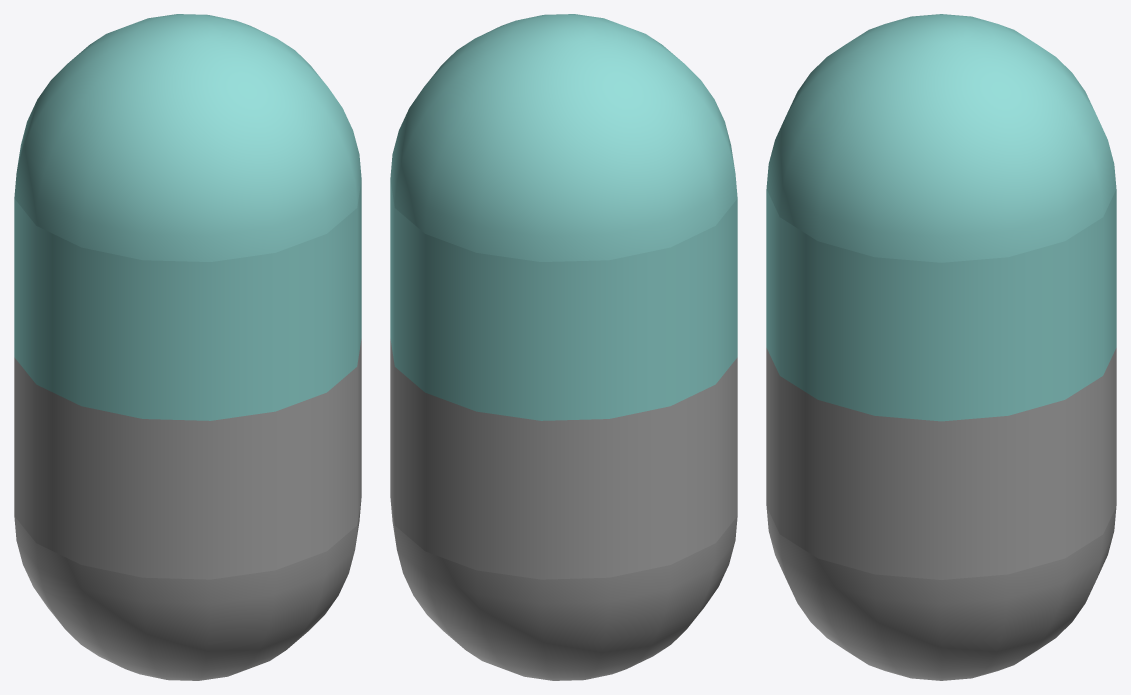
The model's file is CapsulePill.fbx.
3 renders of one model, left to right at view 1: azimuth 30°, elevation 25°; view 2: azimuth 150°, elevation 25°; view 3: azimuth 270°, elevation 25°, orthographic.
Visible parts, largest first — view 1: pCylinder2; view 2: pCylinder2; view 3: pCylinder2.
Part boxes in pixels (bbox=[...]): pCylinder2: bbox=[14, 14, 361, 680]; pCylinder2: bbox=[390, 14, 737, 680]; pCylinder2: bbox=[766, 14, 1116, 680].
Size of the model in its own units: 2 by 4 by 2.
